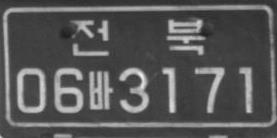0: (16, 66, 46, 114)
1: (157, 66, 185, 113), (232, 66, 260, 113)
3: (118, 66, 150, 113)
6: (53, 66, 84, 113)
7: (193, 66, 226, 114)
바: (88, 70, 113, 110)
전북_D: (68, 18, 206, 56)
